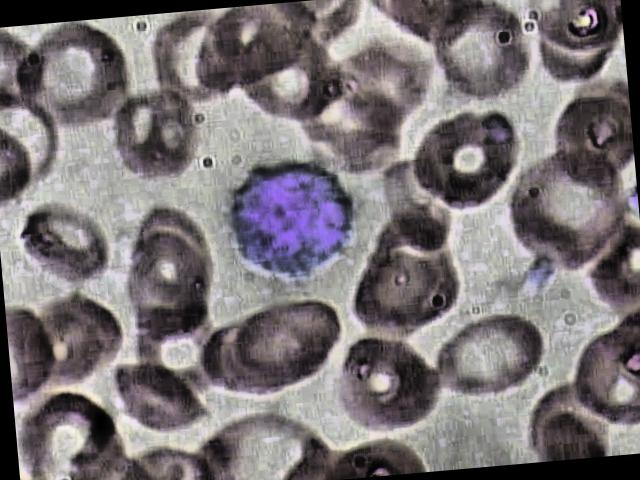Platelets: (516, 255, 564, 295)
RBC: (502, 140, 640, 276), (8, 16, 138, 138), (428, 303, 558, 412), (404, 104, 524, 218), (342, 237, 468, 344), (221, 26, 341, 134), (330, 330, 444, 441), (418, 0, 532, 108), (0, 198, 116, 299), (229, 292, 344, 393), (107, 92, 211, 188), (203, 309, 310, 397), (106, 356, 213, 444), (565, 316, 640, 434)
WBC: (217, 150, 374, 296)
